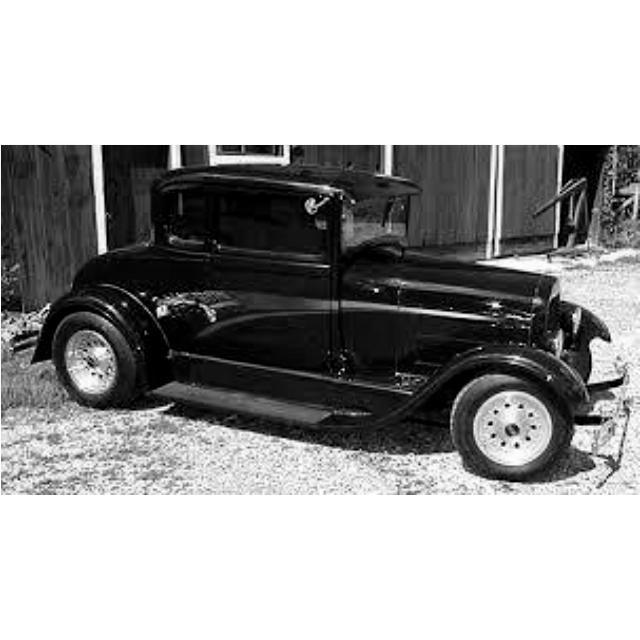doorouter-dent: (146, 254, 262, 359)
